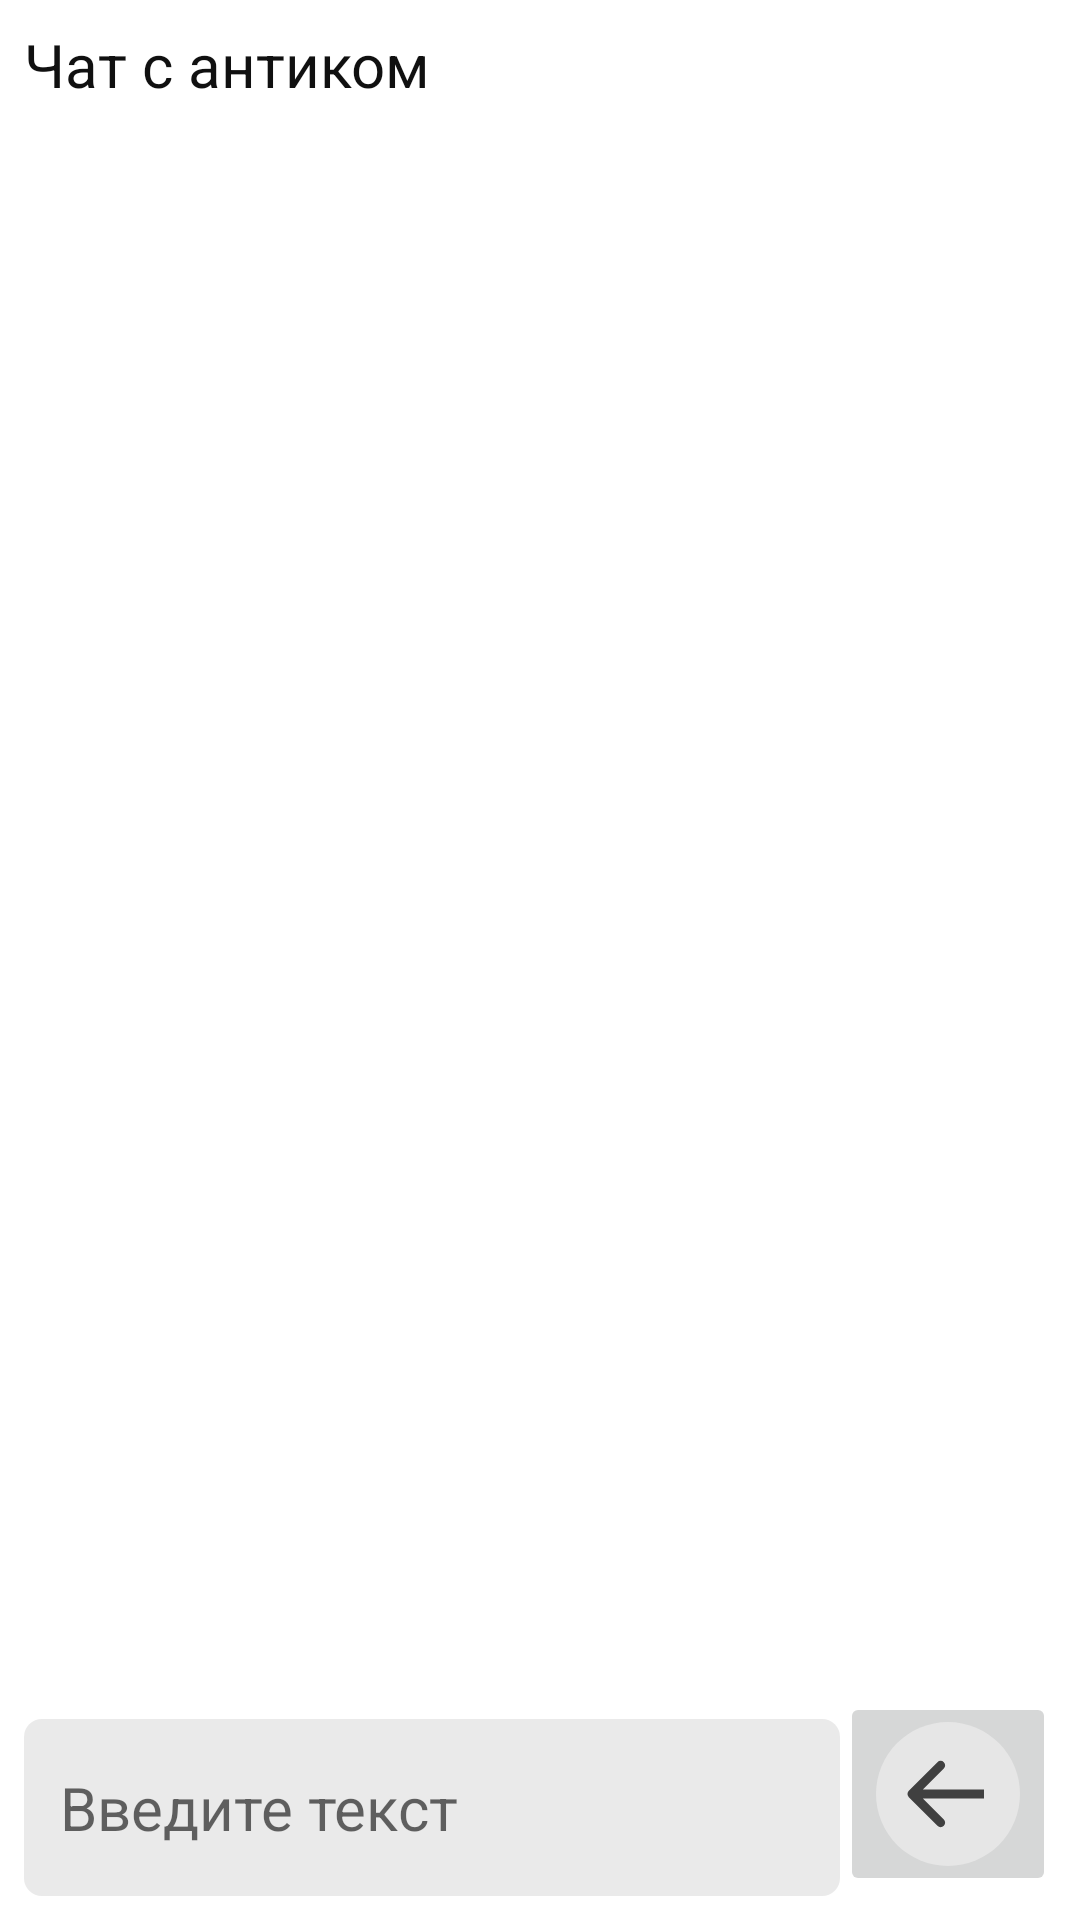

Where icons sit on this 1080x1920 app screen, as {"x1": x1, "y1": y1, "x2": x2, "y2": y2}:
back: {"x1": 852, "y1": 1710, "x2": 1044, "y2": 1878}
